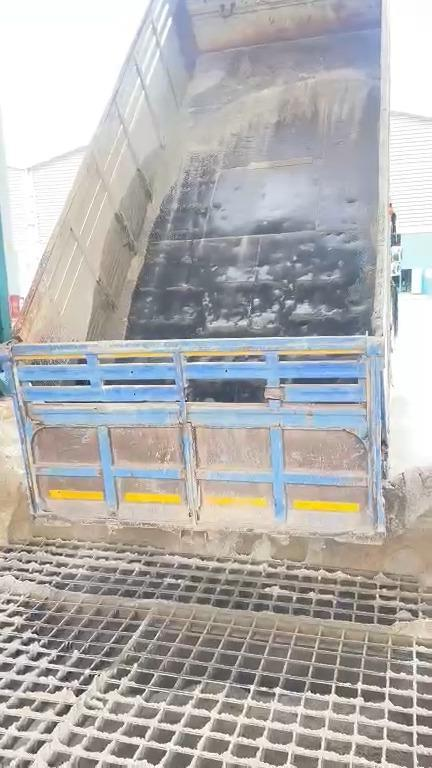sand: (107, 69, 369, 338), (37, 467, 432, 579), (1, 576, 432, 640), (32, 663, 113, 767), (1, 472, 35, 542), (193, 70, 223, 93)
